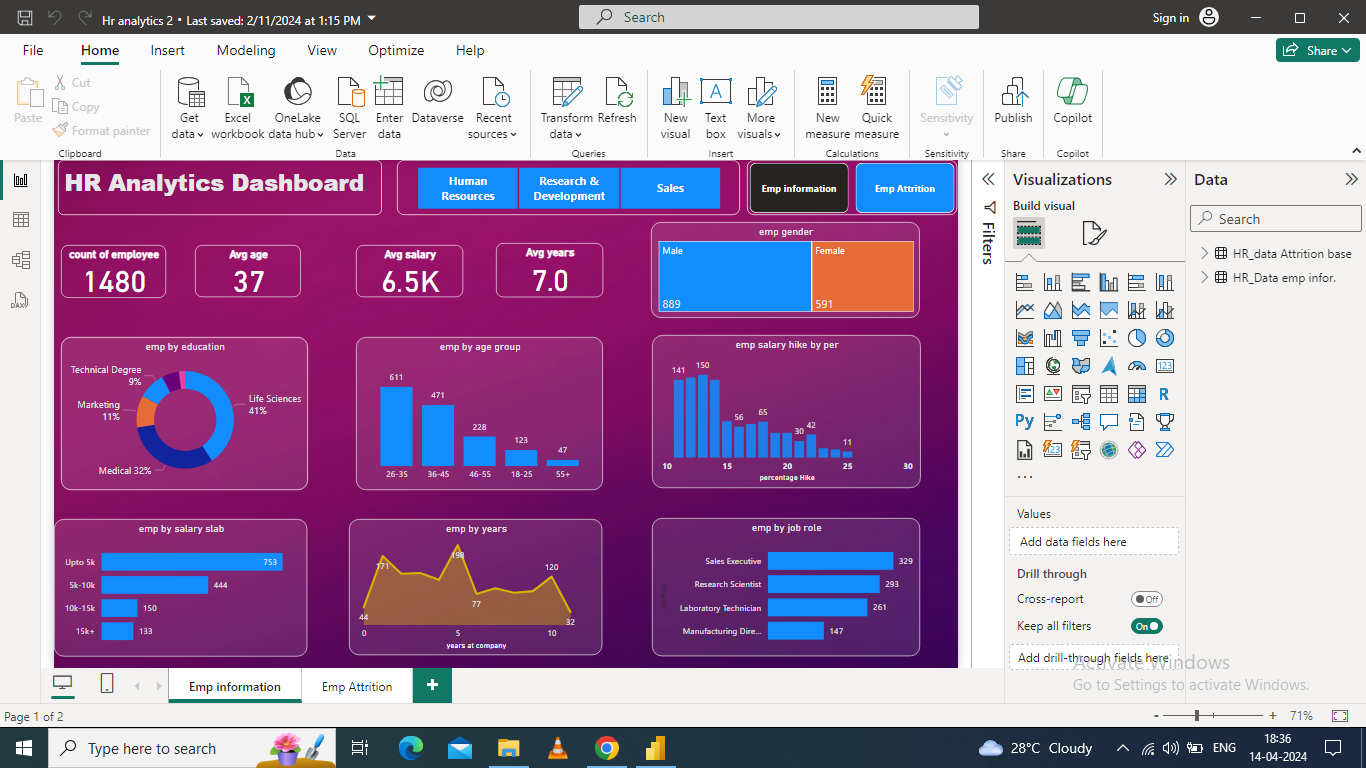

The page's visual inventory and layout, read from the dashboard file:
{"tool":"powerbi","page":{"name":"Emp information","canvas":[1280,720],"ordinal":0},"visuals":[{"type":"card","title":"count of employee","fields":{"Values":["CountNonNull(HR_Analytics (1).EmpID)"]},"box":[9.9,120.5,148.8,75.1],"z":0},{"type":"card","title":"Avg age","fields":{"Values":["Avg(HR_Analytics (1).Age)"]},"box":[199.8,120.5,150.2,73.7],"z":1000},{"type":"card","title":"Avg years","fields":{"Values":["Avg(HR_Analytics (1).YearsAtCompany)"]},"box":[626.5,117.6,151.7,76.5],"z":2000},{"type":"donutChart","title":"emp by education","fields":{"Category":["HR_Analytics (1).EducationField"],"Y":["Sum(HR_Analytics (1).EmployeeNumber)"]},"box":[9.9,250.9,350.1,216.9],"z":3000},{"type":"columnChart","title":"emp by age group","fields":{"Category":["HR_Analytics (1).AgeGroup"],"Y":["CountNonNull(HR_Analytics (1).EmpID)"]},"box":[428,250.9,350.1,216.9],"z":4000},{"type":"clusteredColumnChart","title":"emp salary hike by per","fields":{"Category":["HR_Analytics (1).PercentSalaryHike"],"Y":["Sum(HR_Analytics (1).EmployeeCount)"]},"box":[847.6,248,381.3,216.9],"z":5000},{"type":"clusteredBarChart","title":"emp by salary slab","fields":{"Category":["HR_Analytics (1).SalarySlab"],"Y":["Sum(HR_Analytics (1).EmployeeCount)"]},"box":[0,509,359.5,194.9],"z":6000},{"type":"areaChart","title":"emp by years","fields":{"Category":["HR_Analytics (1).YearsAtCompany"],"Y":["Sum(HR_Analytics (1).EmployeeCount)"]},"box":[418.3,509,359.5,193.2],"z":7000},{"type":"treemap","title":"emp gender","fields":{"Group":["HR_Analytics (1).Gender"],"Values":["CountNonNull(HR_Analytics (1).EmpID)"]},"box":[846.1,87.9,381.3,136.1],"z":8000},{"type":"slicer","fields":{"Values":["HR_Analytics (1).Department"]},"box":[486.1,0,486.1,78],"z":9000},{"type":"card","title":"Avg salary","fields":{"Values":["Avg(HR_Analytics (1).MonthlyIncome)"]},"box":[428,120.5,151.7,73.7],"z":10000},{"type":"pageNavigator","box":[982.2,0,297.6,78],"z":10500},{"type":"textbox","box":[5.7,0,459.2,78],"z":11000},{"type":"clusteredBarChart","title":"emp by job role","fields":{"Y":["Sum(HR_Analytics (1).EmployeeCount)"],"Category":["HR_Analytics (1).JobRole"]},"box":[847.6,507.4,379.8,195.6],"z":12000}]}

Visuals, with their boxes on the page's 1280x720 design canvas (x1, y1, x2, y2). These are canvas units, not pixel positions in the 1366x768 screenshot, which may show the page scaled, cropped or inside an application window:
"count of employee" card: (10, 120, 159, 196)
"Avg age" card: (200, 120, 350, 194)
"Avg years" card: (626, 118, 778, 194)
"emp by education" donutChart: (10, 251, 360, 468)
"emp by age group" columnChart: (428, 251, 778, 468)
"emp salary hike by per" clusteredColumnChart: (848, 248, 1229, 465)
"emp by salary slab" clusteredBarChart: (0, 509, 360, 704)
"emp by years" areaChart: (418, 509, 778, 702)
"emp gender" treemap: (846, 88, 1227, 224)
slicer - HR_Analytics (1).Department: (486, 0, 972, 78)
"Avg salary" card: (428, 120, 580, 194)
pageNavigator: (982, 0, 1280, 78)
textbox: (6, 0, 465, 78)
"emp by job role" clusteredBarChart: (848, 507, 1227, 703)
